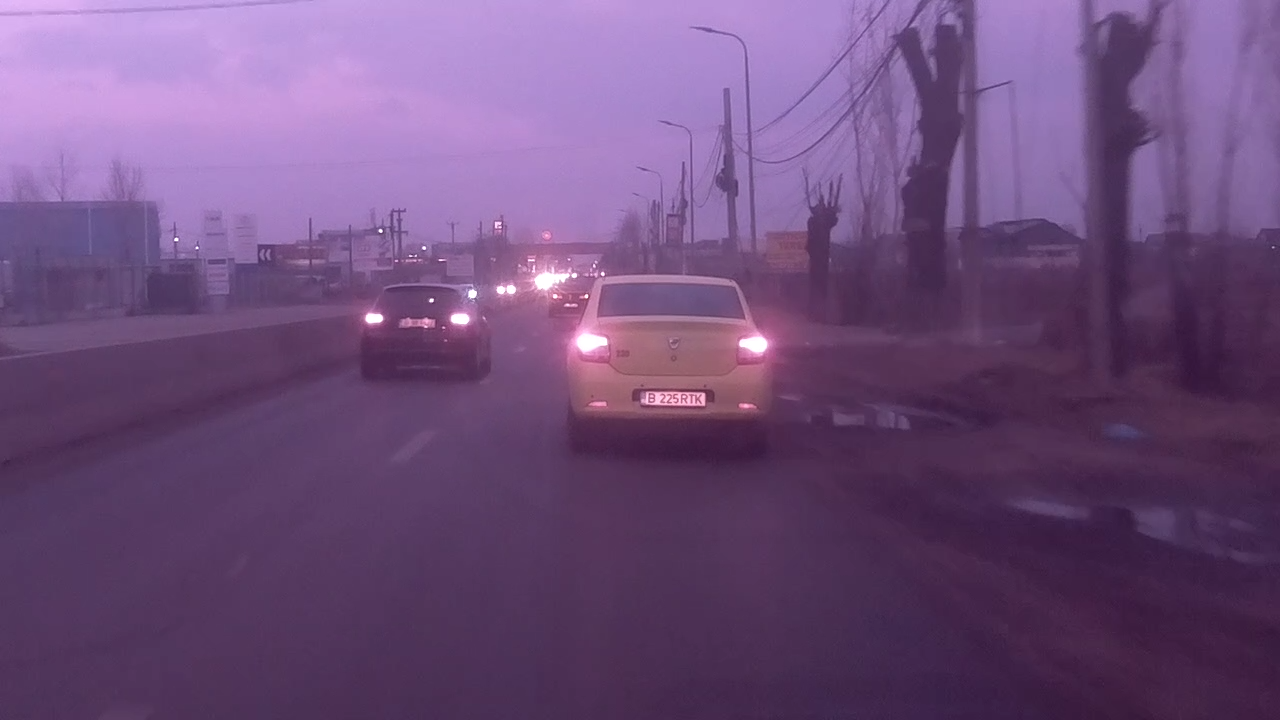license-plate: (636, 387, 708, 409)
